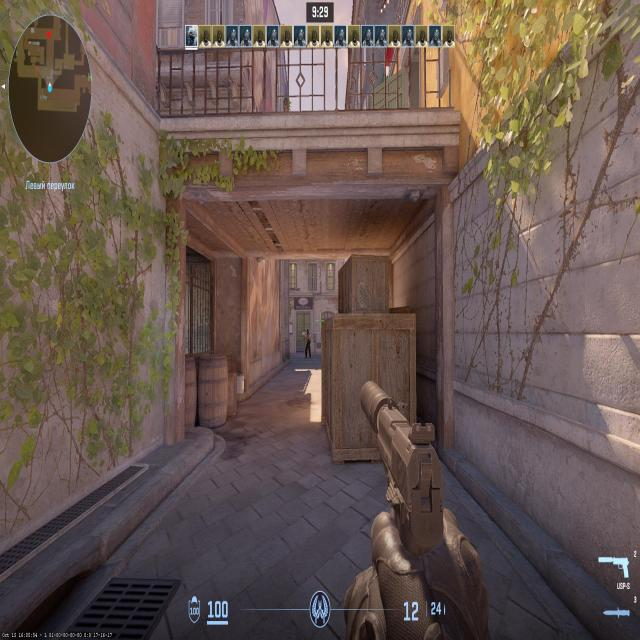T: (305, 331, 310, 356)
T_heat: (307, 330, 309, 337)
